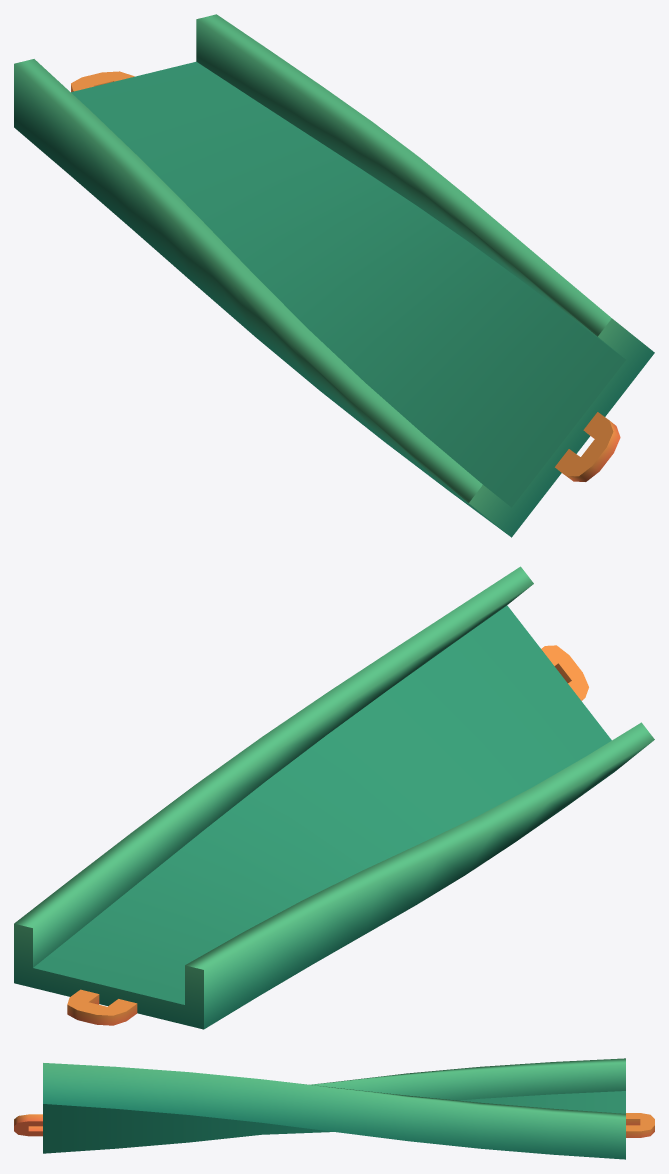
File: track-narrow-straight-skew-right.fbx
3 renders of one model, top to bottom at view 1: azimuth 30°, elevation 25°; view 2: azimuth 150°, elevation 25°; view 3: azimuth 270°, elevation 25°, orthographic. The views are drawn at different scales.
Visible parts, largest first — view 1: track-narrow-straight-skew-right; view 2: track-narrow-straight-skew-right; view 3: track-narrow-straight-skew-right.
Part boxes in pixels (box(x1,y1,x2,y2)): track-narrow-straight-skew-right: box(14, 14, 654, 537); track-narrow-straight-skew-right: box(14, 566, 654, 1029); track-narrow-straight-skew-right: box(14, 1058, 654, 1159).
Size of the model in its own units: 108 by 91.92 by 440.
